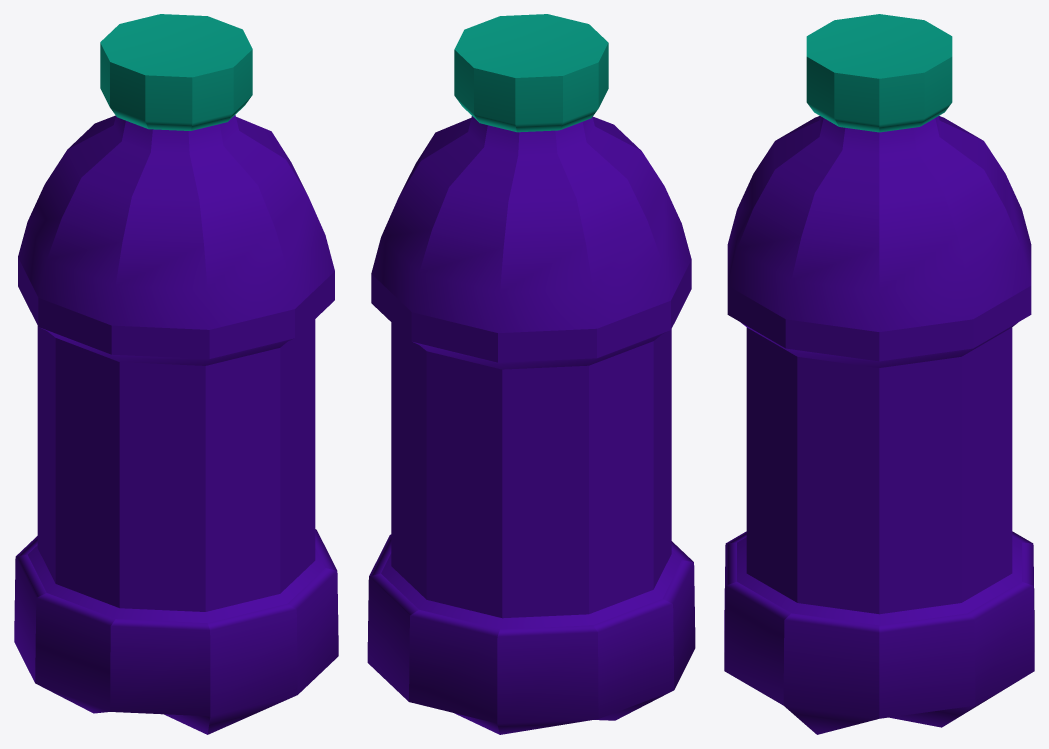
File: EnergyDrink1.fbx
The picture shows the model from 3 angles, left to right: view 1: azimuth 30°, elevation 25°; view 2: azimuth 150°, elevation 25°; view 3: azimuth 270°, elevation 25°; orthographic projection.
Visible parts, largest first — view 1: Bottle1, Cap1; view 2: Bottle1, Cap1; view 3: Bottle1, Cap1.
Part boxes in pixels (left/top/right/bottom): Bottle1: left=14, top=115, right=338, bottom=734; Cap1: left=100, top=14, right=252, bottom=130; Bottle1: left=367, top=116, right=695, bottom=734; Cap1: left=454, top=14, right=608, bottom=132; Bottle1: left=724, top=116, right=1034, bottom=734; Cap1: left=806, top=14, right=952, bottom=132.
Size of the model in its own units: 2.18 by 4.77 by 2.07.
